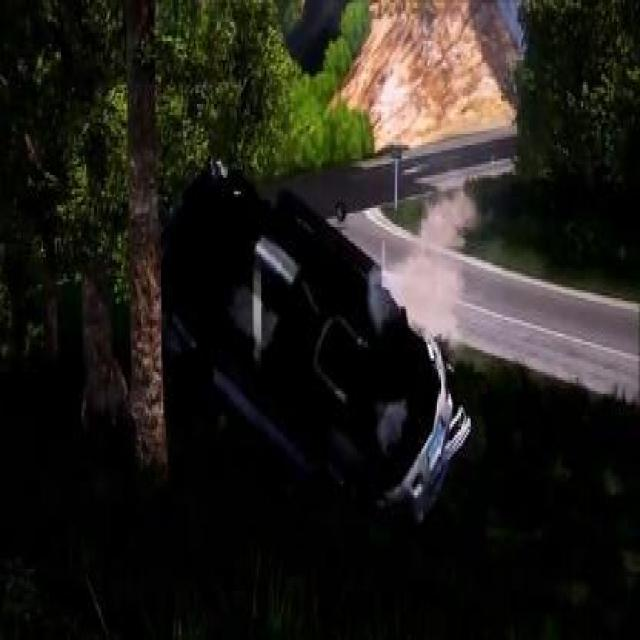accident: (148, 137, 470, 530)
